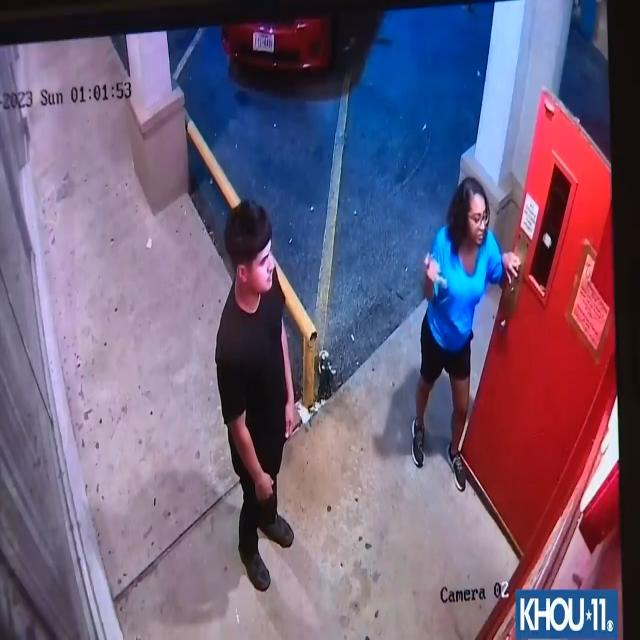Person: (212, 191, 305, 613), (410, 166, 521, 511)
